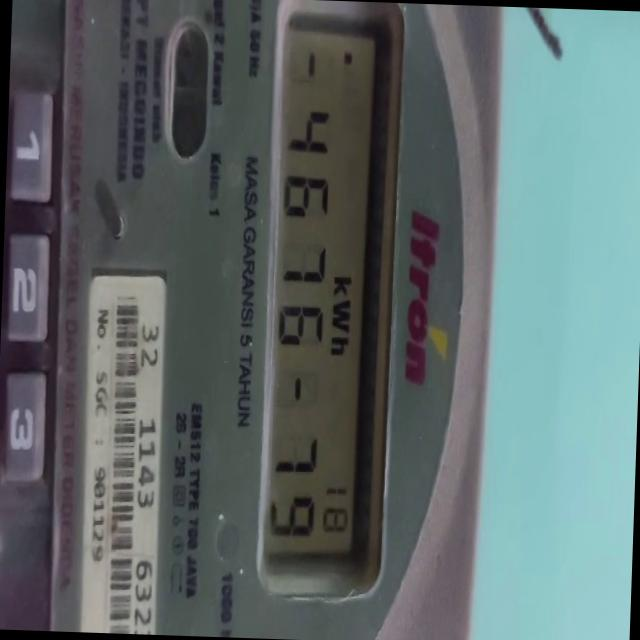LCD: (262, 0, 398, 592)
